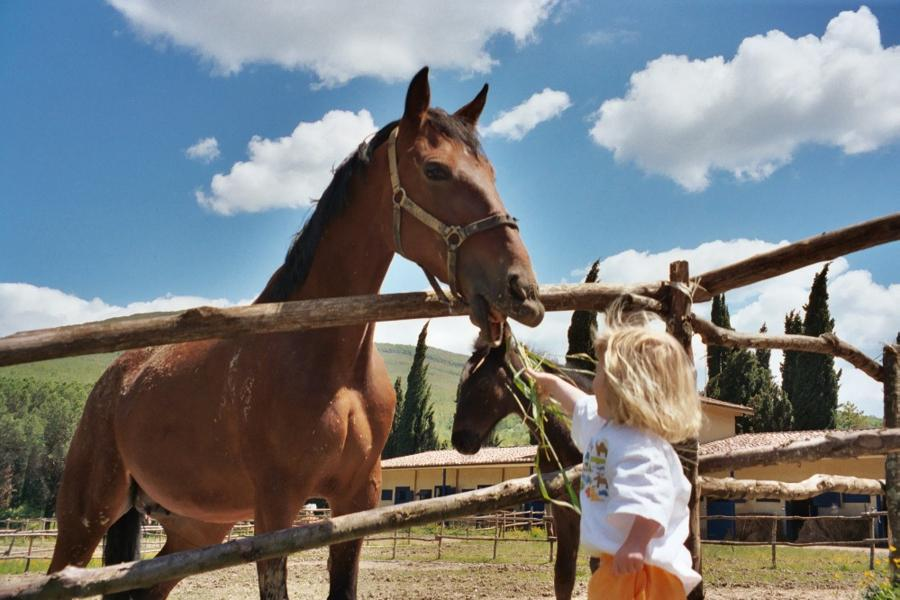person: (523, 317, 705, 596)
